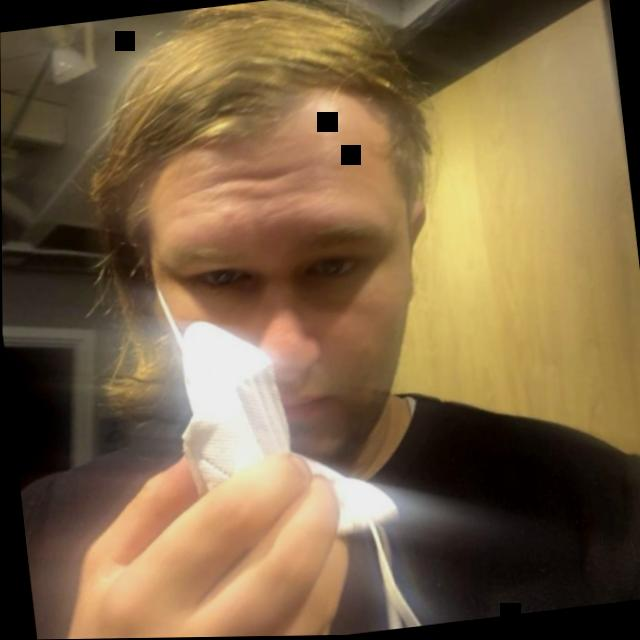NO-Mask: (98, 4, 497, 551)
